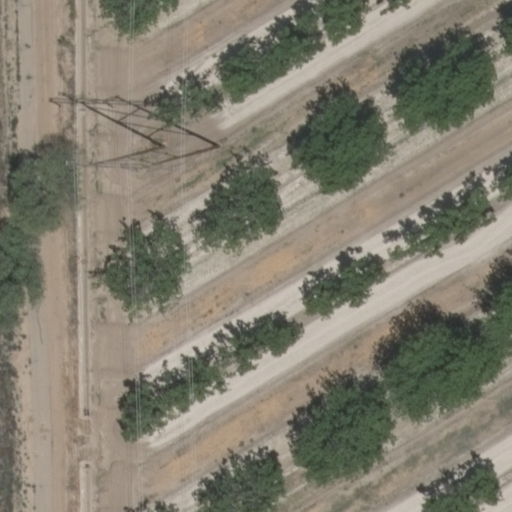DT: (60, 138, 223, 177)
